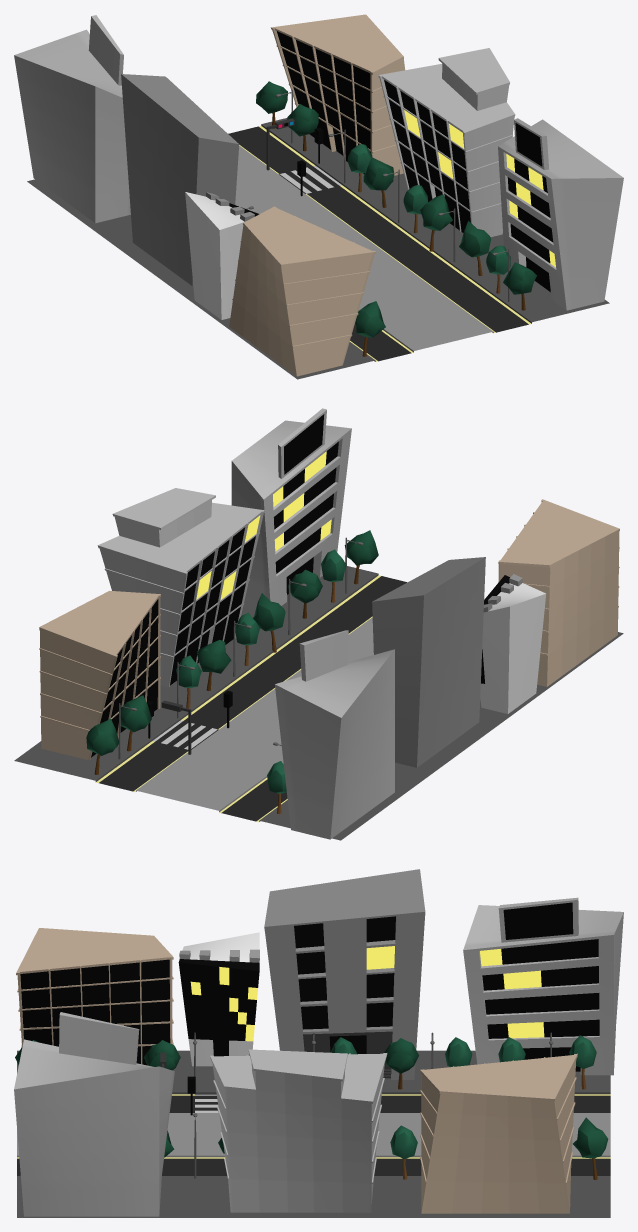
Rendered from Block_01.fbx.
The picture shows the model from 3 angles, top to bottom: view 1: azimuth 30°, elevation 25°; view 2: azimuth 150°, elevation 25°; view 3: azimuth 270°, elevation 25°; orthographic projection. The views are drawn at different scales.
Visible parts, largest first — view 1: Block_01; view 2: Block_01; view 3: Block_01.
Boxes of the visible parts, left/top/right/bottom form: Block_01: left=14, top=14, right=623, bottom=379; Block_01: left=14, top=408, right=623, bottom=840; Block_01: left=14, top=869, right=623, bottom=1217.
Size of the model in its own units: 2224 by 1047 by 3083.
Materials: 2 (1 with a texture image).
